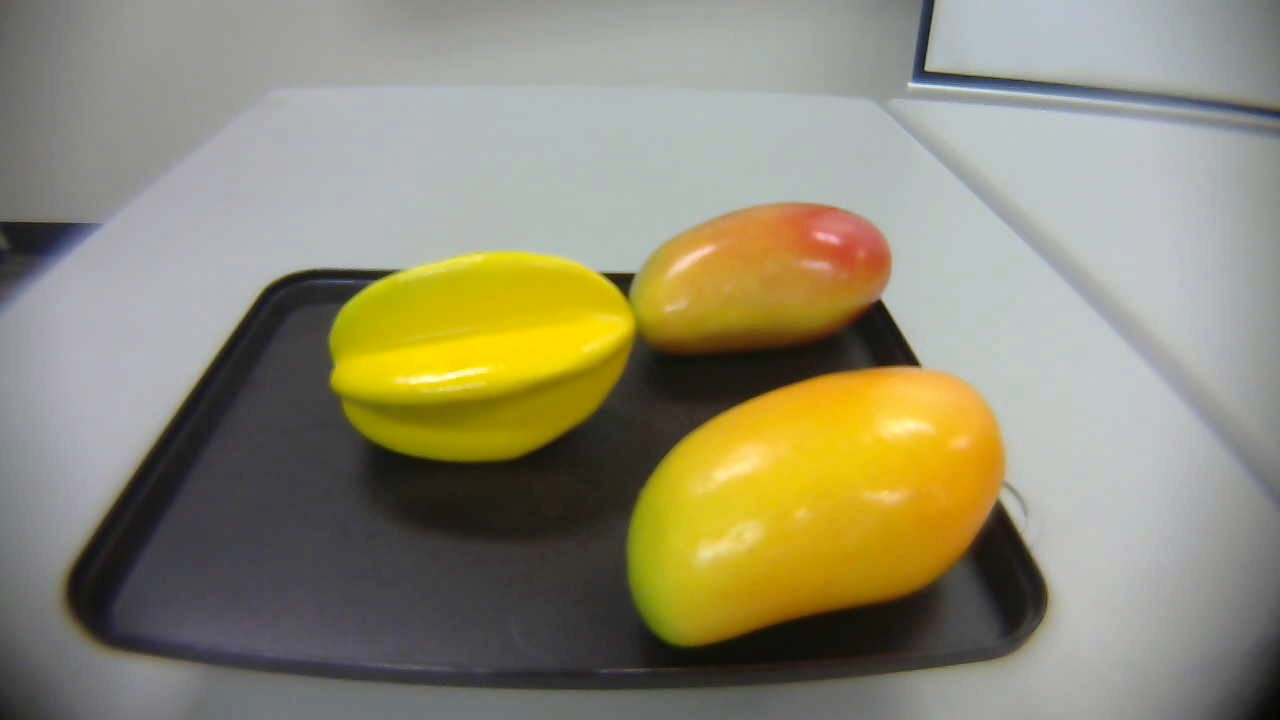red mango: (622, 202, 897, 358)
star fruit: (315, 248, 648, 466)
yellow mango: (617, 363, 1023, 650)
